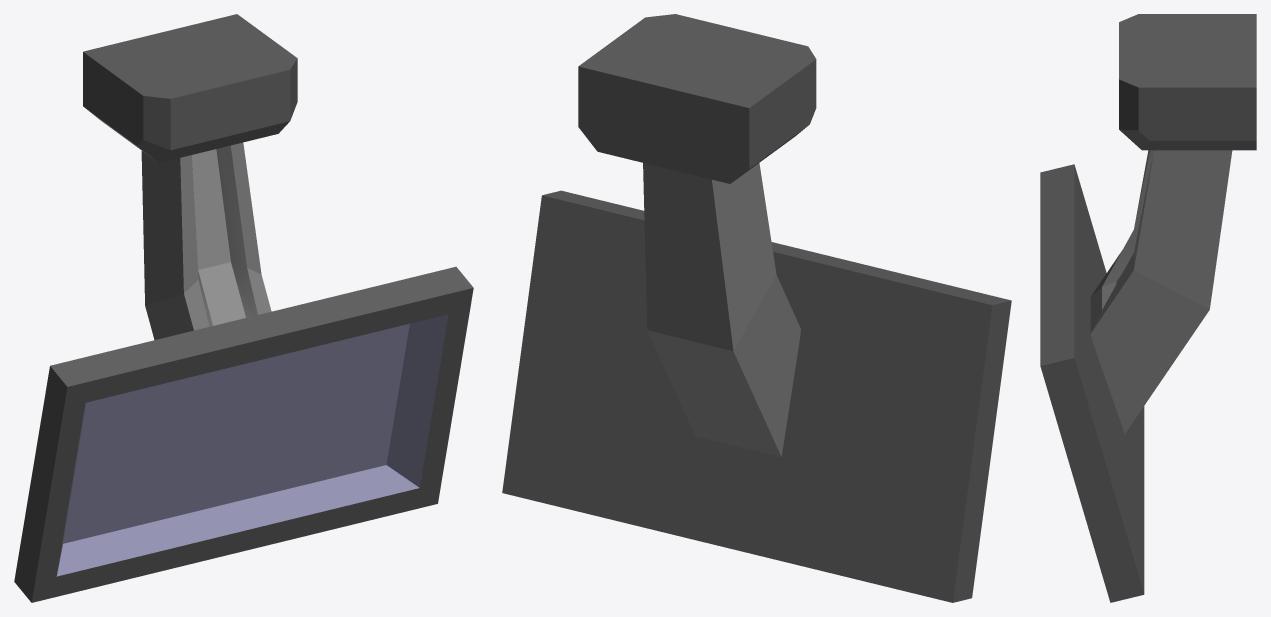
Rendered from Televiseur_Plafond.fbx.
The picture shows the model from 3 angles, left to right: view 1: azimuth 30°, elevation 25°; view 2: azimuth 150°, elevation 25°; view 3: azimuth 270°, elevation 25°; orthographic projection. The views are drawn at different scales.
Visible parts, largest first — view 1: Televiseur_Plafond; view 2: Televiseur_Plafond; view 3: Televiseur_Plafond.
Part boxes in pixels (box(x1,y1,x2,y2)): Televiseur_Plafond: box(14, 14, 473, 602); Televiseur_Plafond: box(502, 14, 1011, 602); Televiseur_Plafond: box(1040, 14, 1256, 602).
Size of the model in its own units: 100 by 110 by 47.14.
